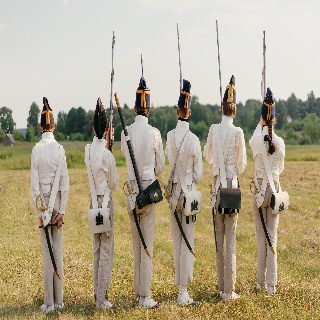rifle: (106, 29, 118, 146), (214, 19, 228, 106), (259, 29, 271, 100), (174, 21, 185, 95), (138, 51, 147, 79)
